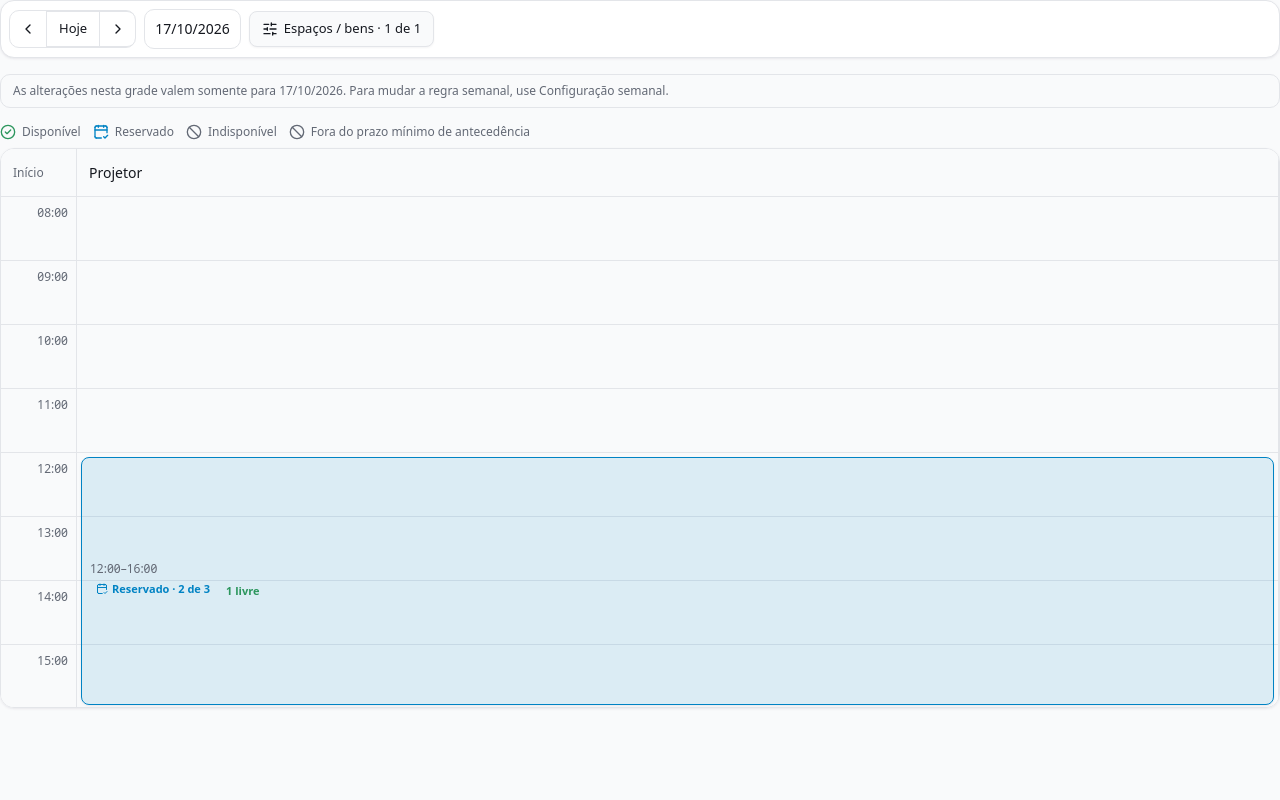
Test: DailyAgendaTab multi-unit resource › opens a chooser for an aggregated cell and reaches the existing details flow for the picked booking
Click the button "12:00–16:00 Reservado · 2 de 3 1 livre".
click(678, 581)  # box x1=81 y1=457 x2=1274 y2=705
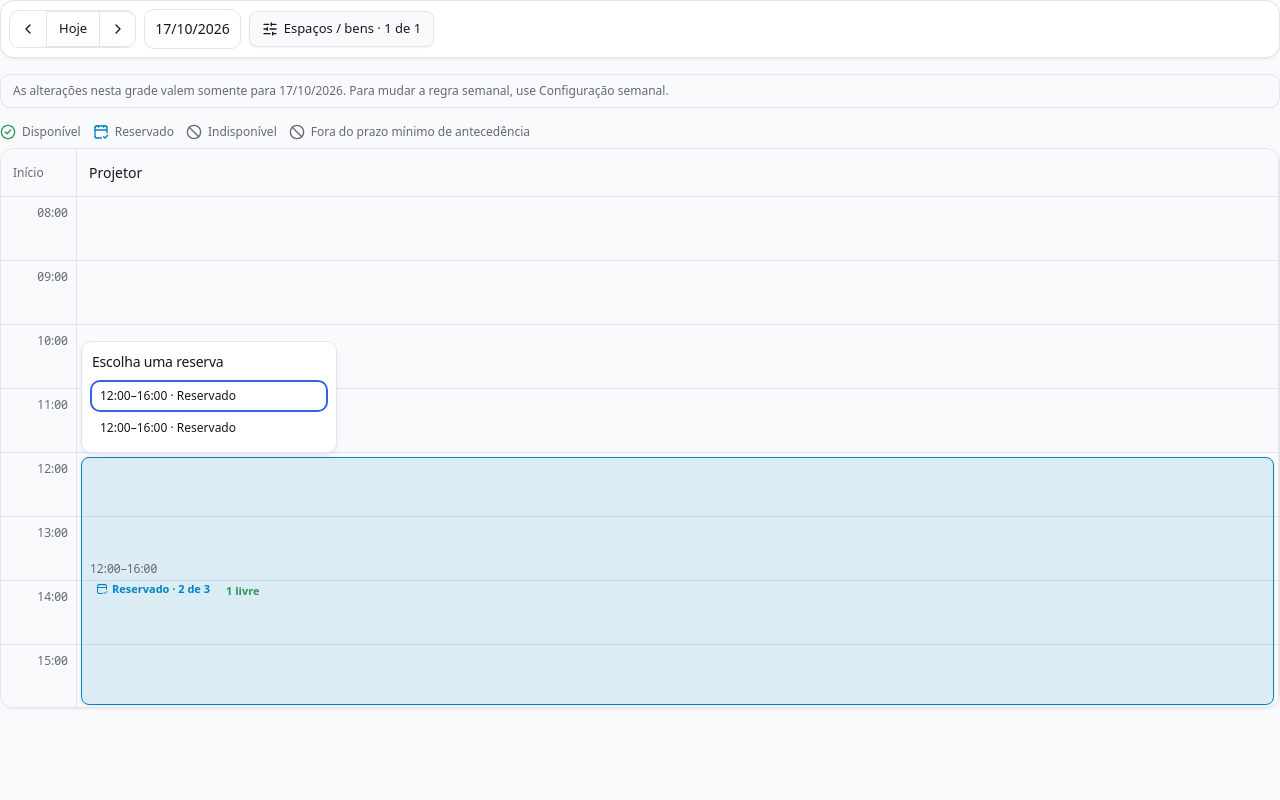
expect the heading "Escolha uma reserva" is shown: met, box x1=92 y1=352 x2=223 y2=371
expect the number of buttons "12:00–16:00 · Reservado" is 2: met
Click the 2nd button "12:00–16:00 · Reservado".
click(209, 428)  # box x1=92 y1=414 x2=326 y2=442
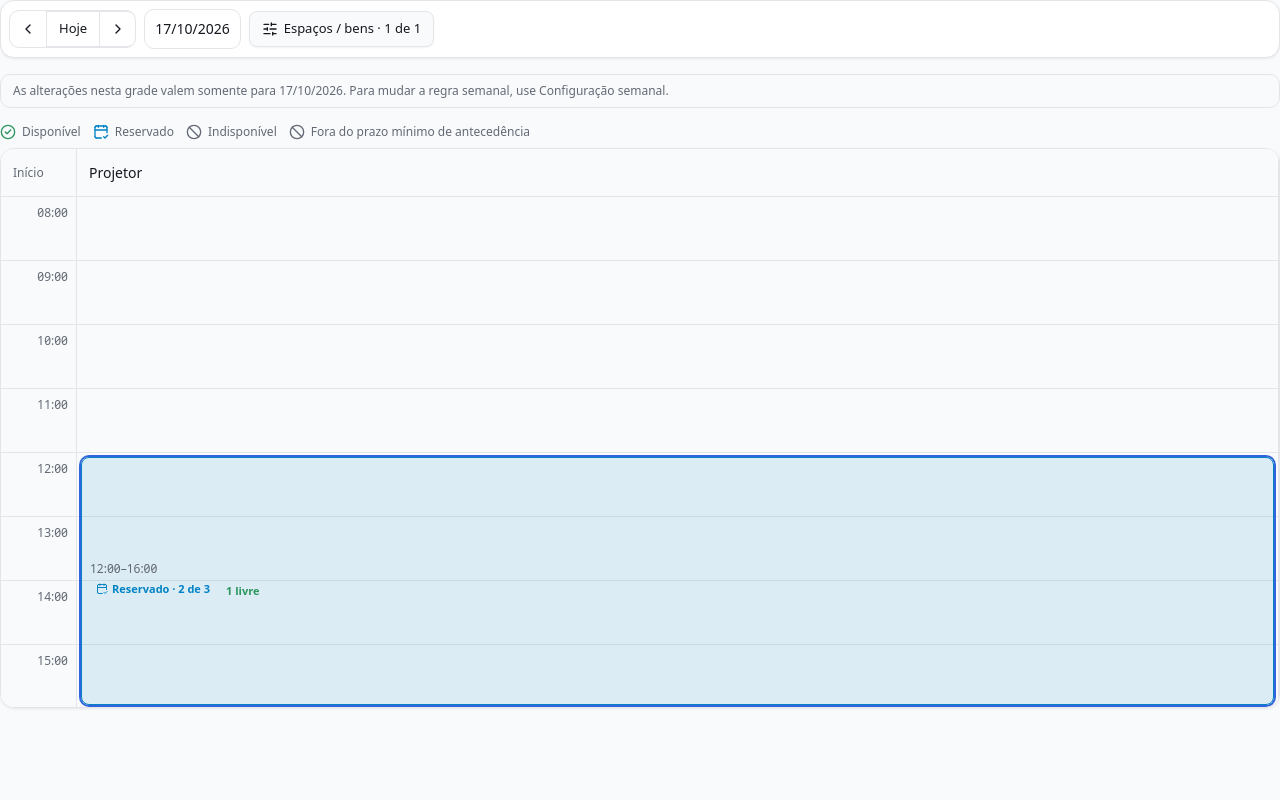
expect the dialog is gone: met
